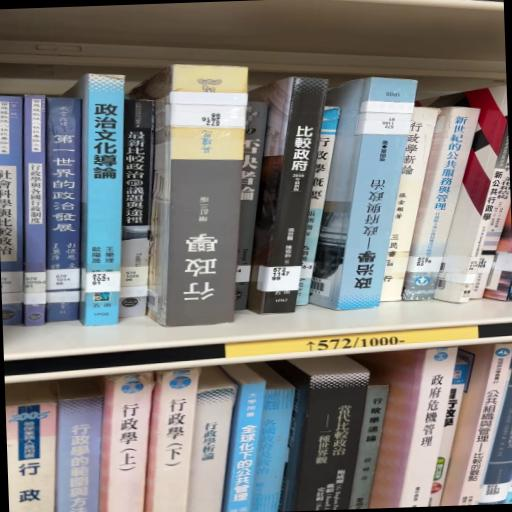reverse: (128, 66, 248, 327), (310, 78, 417, 310)
